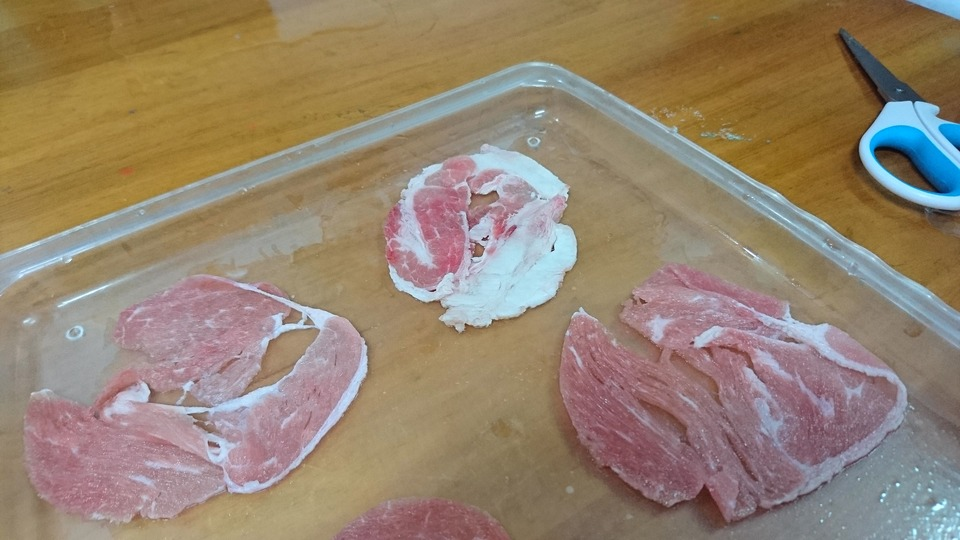restructured meat: (557, 285, 912, 517), (21, 289, 371, 511), (373, 124, 580, 324), (332, 501, 529, 538)
